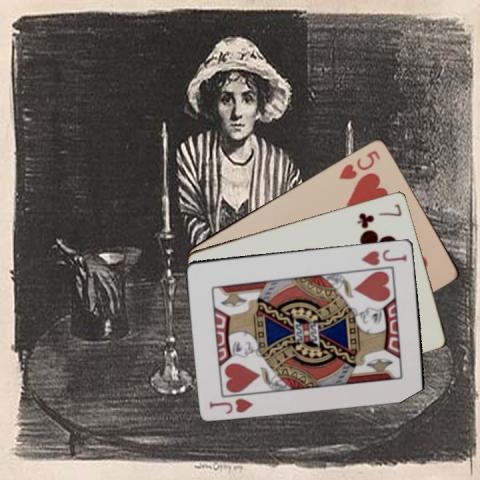5h: (335, 146, 382, 180)
7c: (354, 201, 403, 227)
Jh: (358, 246, 408, 267), (206, 395, 255, 415)
